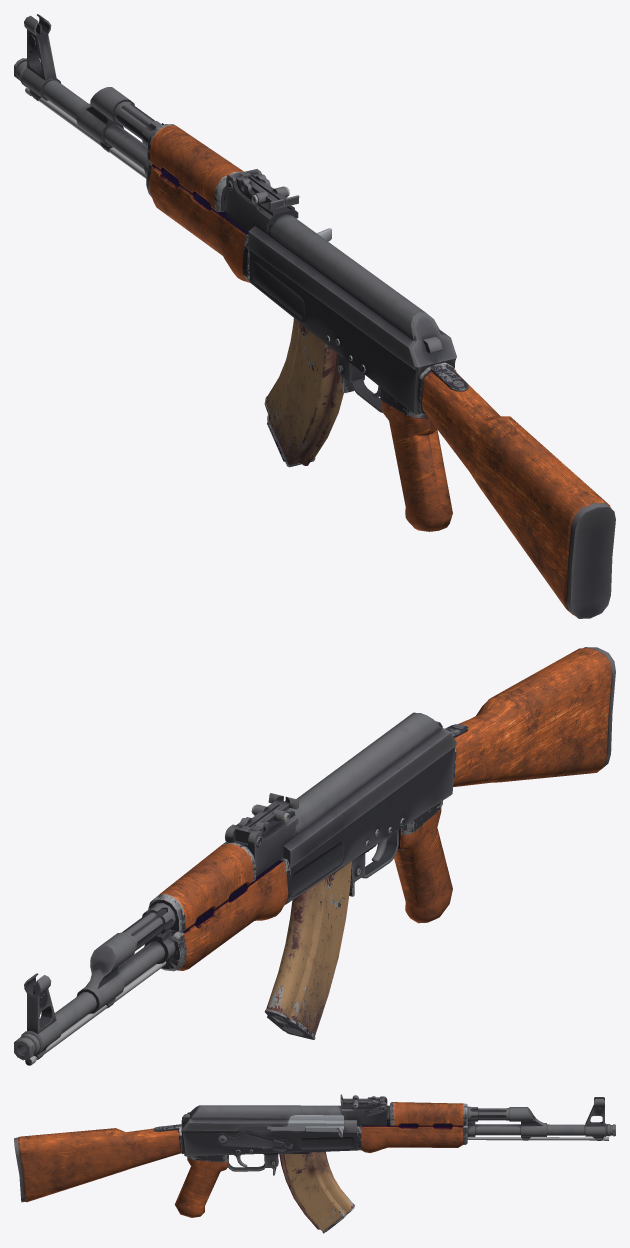
File: rifle_ak.glb
The picture shows the model from 3 angles, top to bottom: view 1: azimuth 30°, elevation 25°; view 2: azimuth 150°, elevation 25°; view 3: azimuth 270°, elevation 25°; orthographic projection. The views are drawn at different scales.
Visible parts, largest first — view 1: body, magazine; view 2: body, magazine; view 3: body, magazine, bolt, selector.
Part boxes in pixels (x1,y1,x2,y2): body: (14,14,615,618); magazine: (264,318,343,467); body: (14,647,615,1065); magazine: (264,861,351,1039); body: (14,1094,615,1217); magazine: (279,1151,354,1233); bolt: (267,1115,343,1137); selector: (215,1131,292,1151).
Size of the model in its own units: 0.0634 by 0.214 by 0.88.
1 material, 1 textured.
